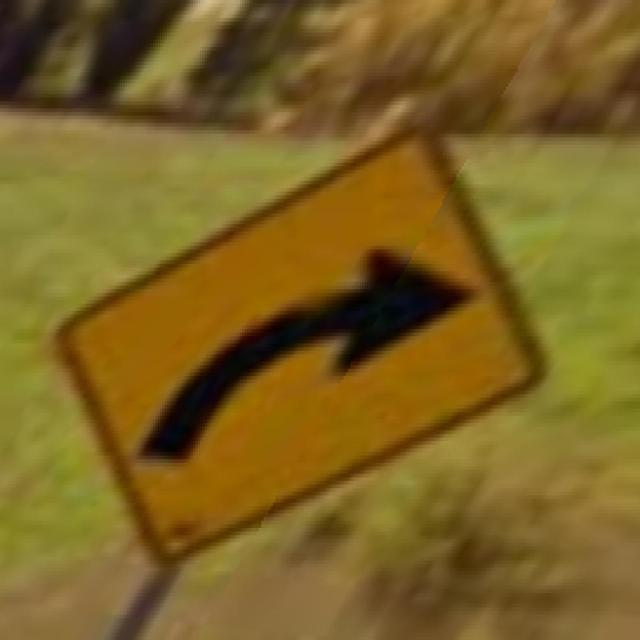Tikungan Ke Kanan: (47, 105, 546, 571)
